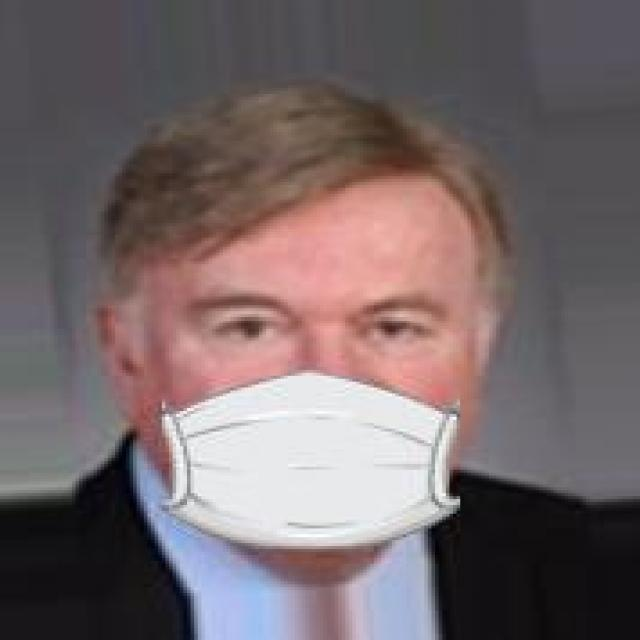mask: (11, 76, 550, 567)
